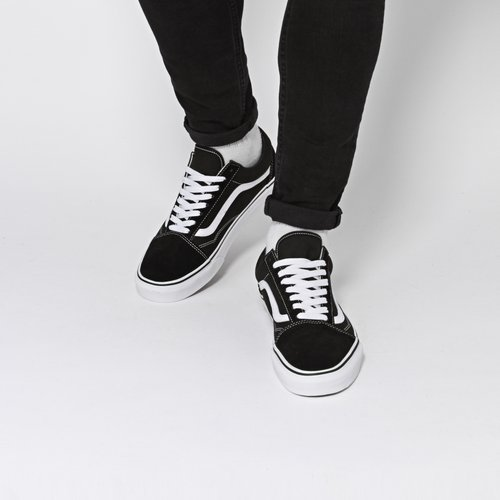Vans Old Skool Black: (120, 103, 282, 309), (241, 216, 369, 397)
